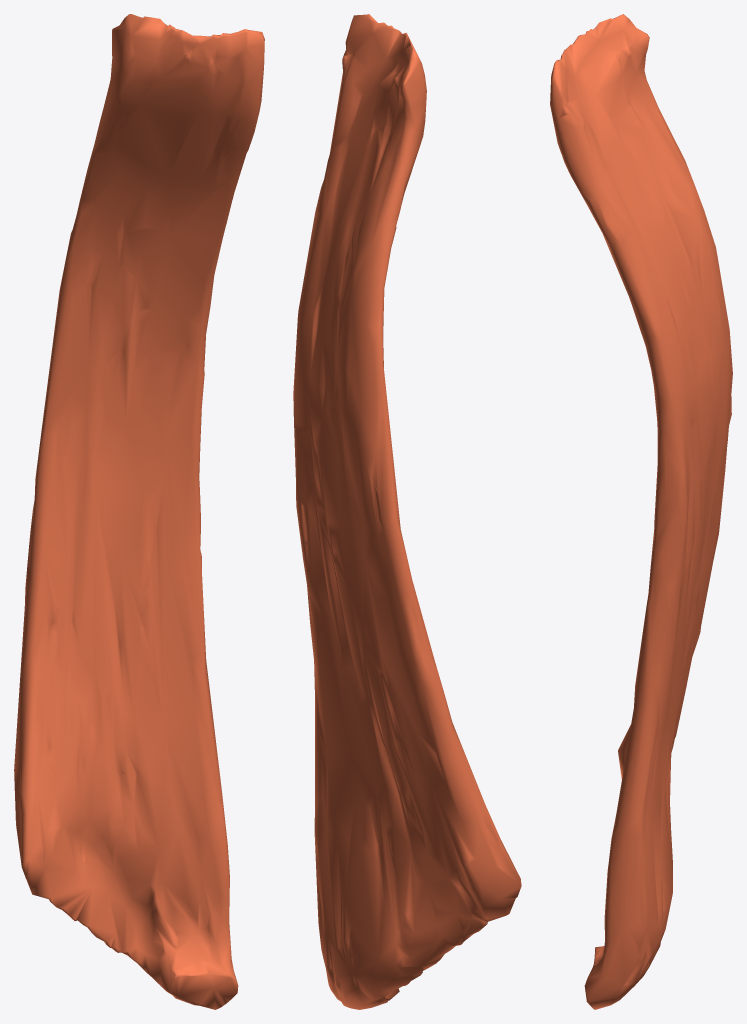
The model's file is Sternohyoid_muscle.r_Generated_Mesh_From_X3D.194.glb.
The picture shows the model from 3 angles, left to right: view 1: azimuth 30°, elevation 25°; view 2: azimuth 150°, elevation 25°; view 3: azimuth 270°, elevation 25°; orthographic projection. The views are drawn at different scales.
Visible parts, largest first — view 1: Sternohyoid_muscle.r_Generated_Mesh_From_X3D.194; view 2: Sternohyoid_muscle.r_Generated_Mesh_From_X3D.194; view 3: Sternohyoid_muscle.r_Generated_Mesh_From_X3D.194.
Part boxes in pixels (left/top/right/bottom): Sternohyoid_muscle.r_Generated_Mesh_From_X3D.194: left=14, top=14, right=264, bottom=1009; Sternohyoid_muscle.r_Generated_Mesh_From_X3D.194: left=293, top=14, right=521, bottom=1009; Sternohyoid_muscle.r_Generated_Mesh_From_X3D.194: left=550, top=14, right=732, bottom=1009.
Bounding box in the file's own units: 0.0238 × 0.1081 × 0.0186.
